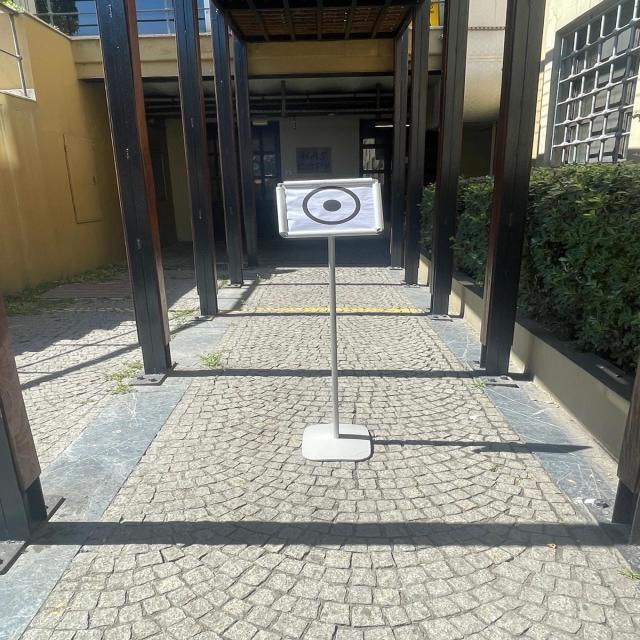Target: (256, 168, 403, 246)
inner: (316, 194, 348, 218)
